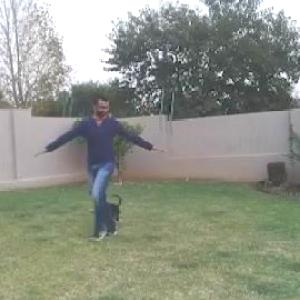land: (54, 97, 164, 228)
